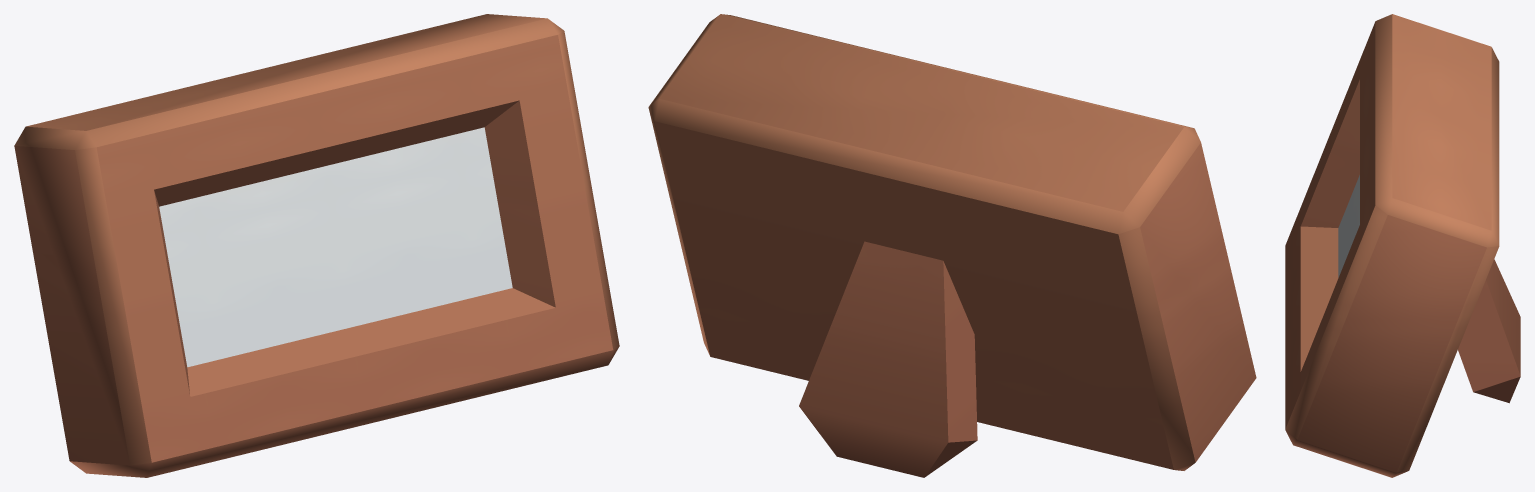
Rendered from pictureframe-standing-b.glb.
The picture shows the model from 3 angles, left to right: view 1: azimuth 30°, elevation 25°; view 2: azimuth 150°, elevation 25°; view 3: azimuth 270°, elevation 25°; orthographic projection. The views are drawn at different scales.
Visible parts, largest first — view 1: pictureframe_standing_B; view 2: pictureframe_standing_B; view 3: pictureframe_standing_B.
Boxes of the visible parts, <box> form: pictureframe_standing_B: <box>14,14,619,477</box>; pictureframe_standing_B: <box>648,14,1256,477</box>; pictureframe_standing_B: <box>1285,14,1520,477</box>.
Bounding box in the file's own units: 0.7 × 0.4682 × 0.357.
1 material, 1 textured.
